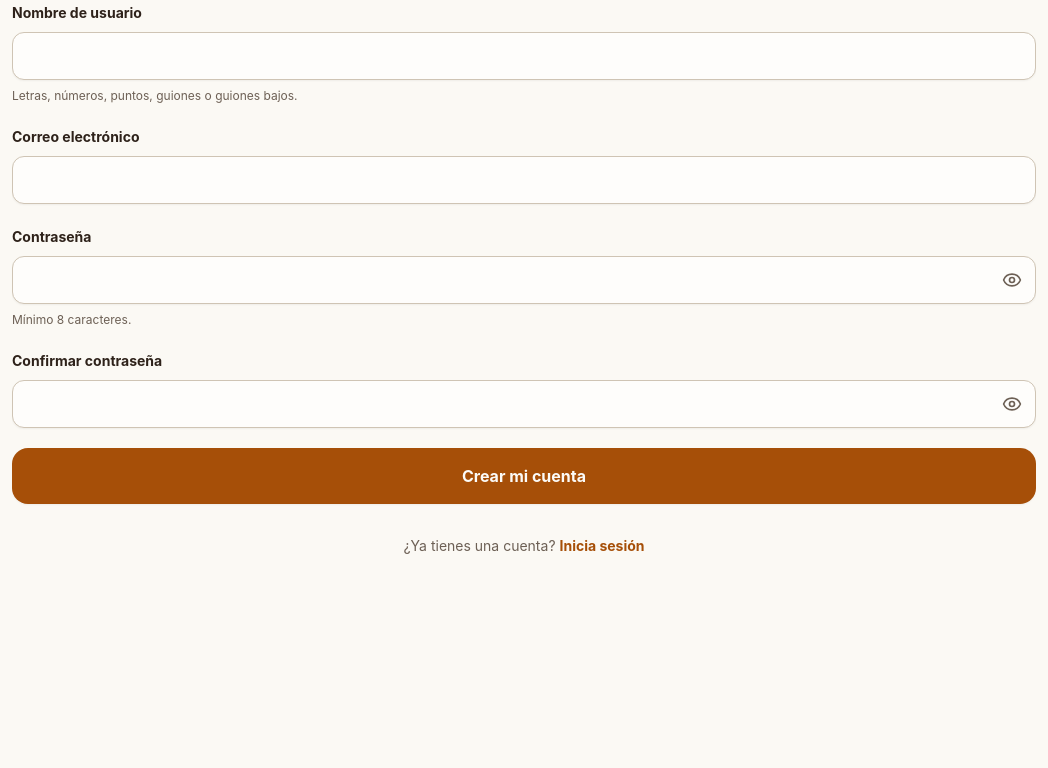
Test: RegisterForm › muestra los errores de validación junto a los campos
Click the button "Crear mi cuenta".
click(524, 476)  # box [12,448,1036,504]
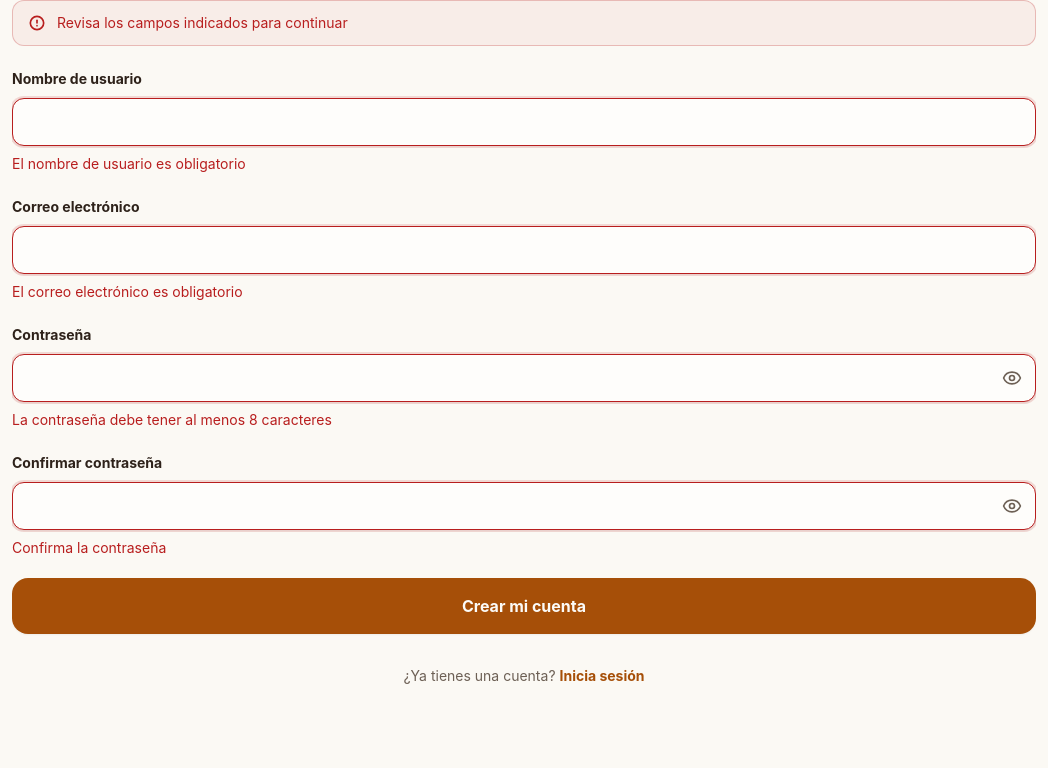
Result: the text "El nombre de usuario es obligatorio" is shown at [12,155,246,172]
Result: the text "El correo electrónico es obligatorio" is shown at [12,283,243,300]
Result: the text "La contraseña debe tener al menos 8 caracteres" is shown at [12,411,332,428]
